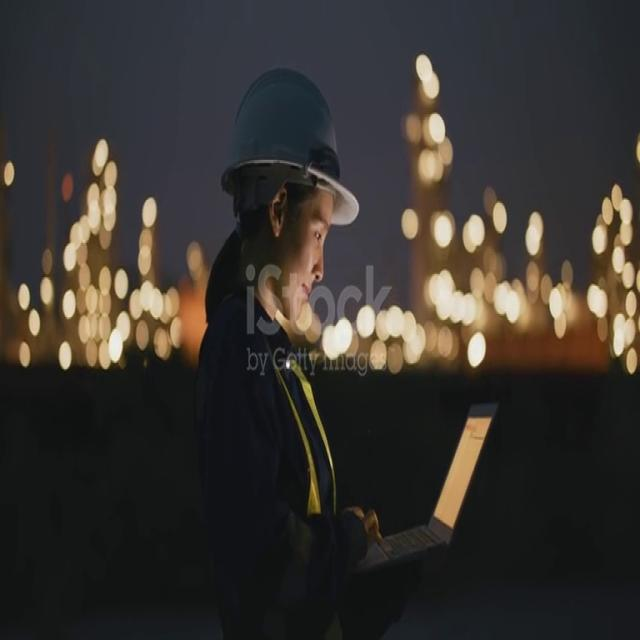capacete: (208, 46, 366, 231)
